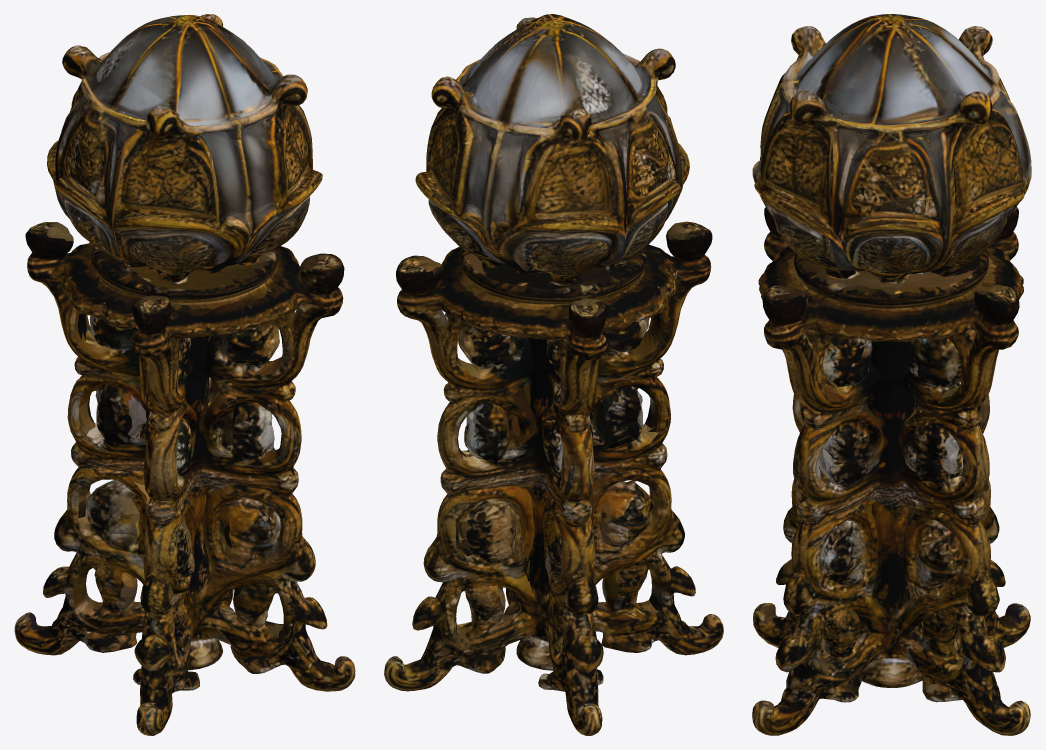
The picture shows the model from 3 angles, left to right: view 1: azimuth 30°, elevation 25°; view 2: azimuth 150°, elevation 25°; view 3: azimuth 270°, elevation 25°; orthographic projection. The views are drawn at different scales.
Visible parts, largest first — view 1: textured_mesh; view 2: textured_mesh; view 3: textured_mesh.
Part boxes in pixels (box(x1,y1,x2,y2)): textured_mesh: box(14, 14, 355, 735); textured_mesh: box(384, 14, 723, 735); textured_mesh: box(752, 14, 1031, 735).
Bounding box in the file's own units: 0.7413 × 1.99 × 0.7501.
Materials: 1 (1 with a texture image).
